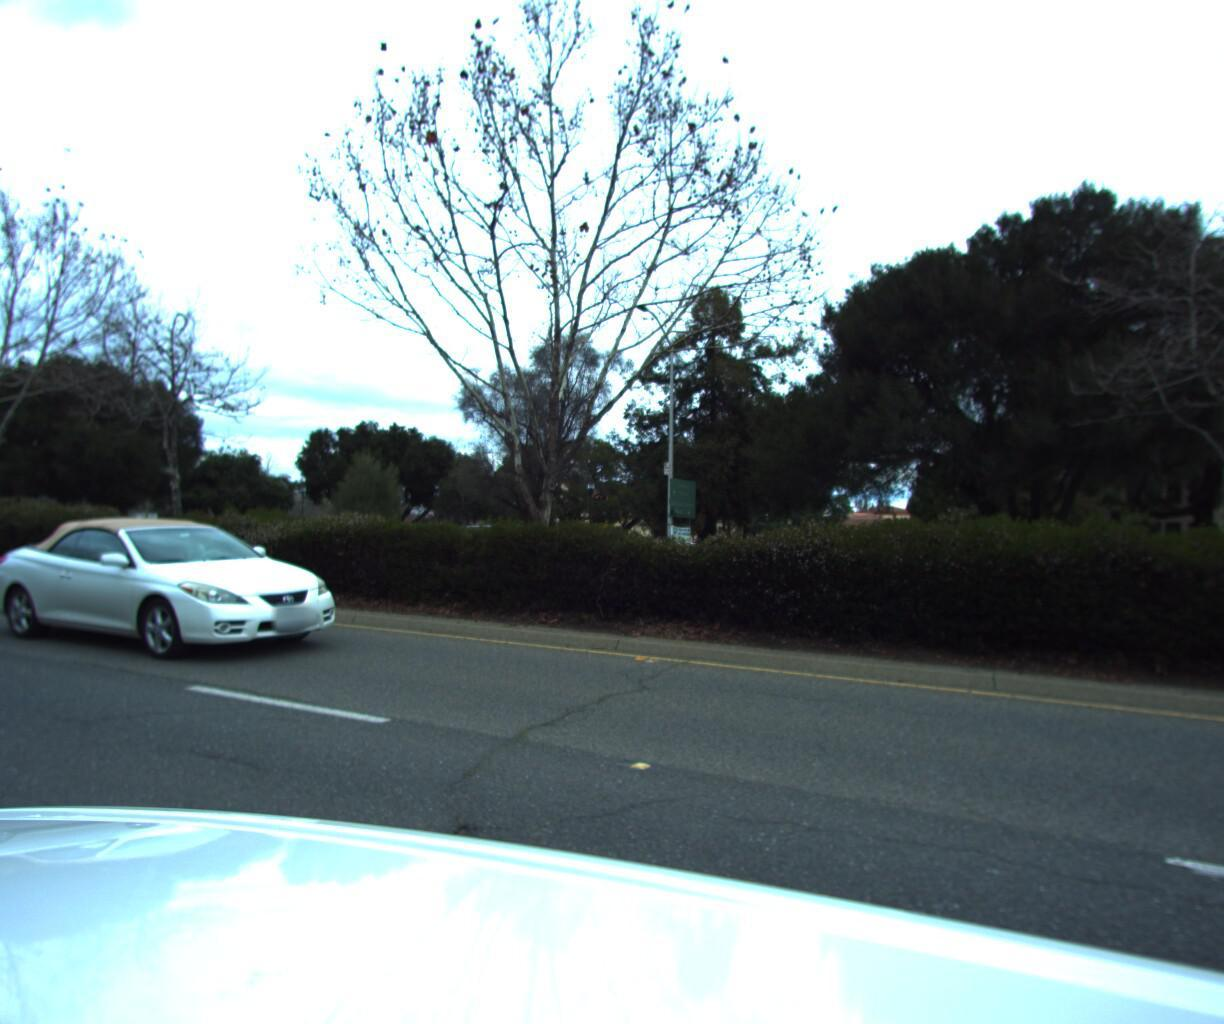car: (0, 507, 361, 676)
